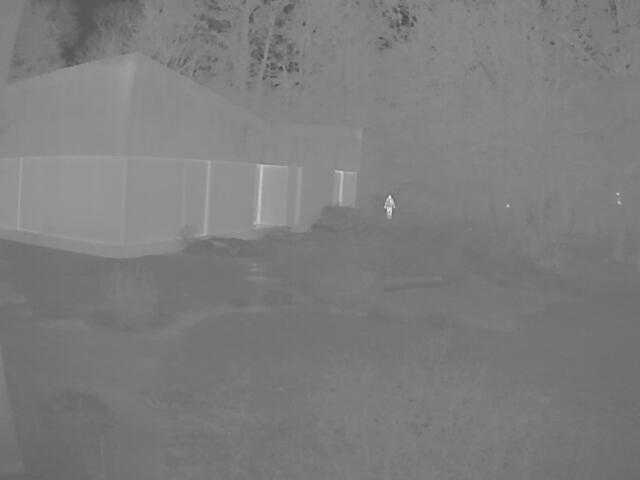person: (381, 194, 395, 220)
